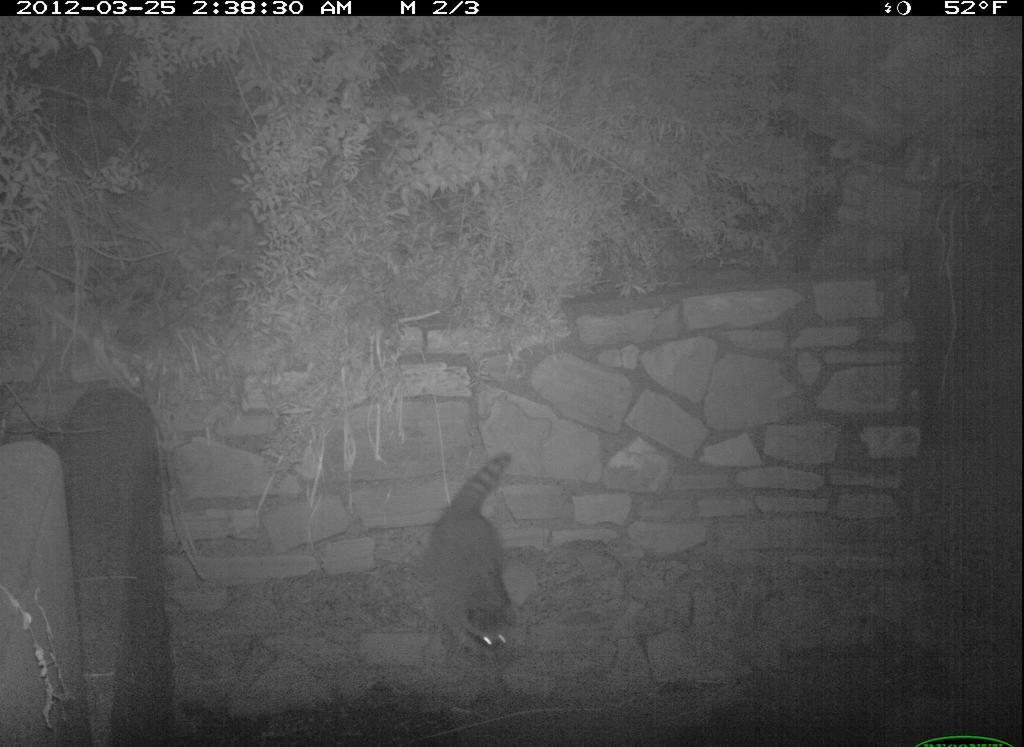raccoon: (418, 451, 528, 681)
